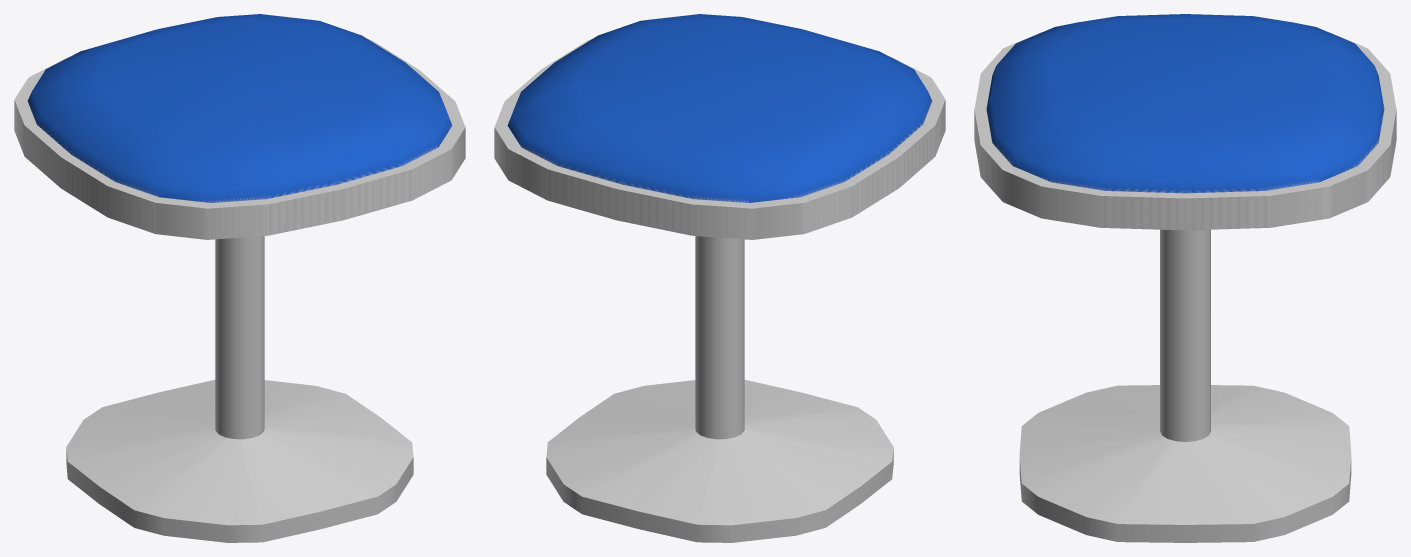
The model's file is Y1BoxChair.fbx.
3 views of the same model, side by side, from view 1: azimuth 30°, elevation 25°; view 2: azimuth 150°, elevation 25°; view 3: azimuth 270°, elevation 25° (orthographic). The views are drawn at different scales.
Parts seen in each view (by area): view 1: isu; view 2: isu; view 3: isu.
Part boxes in pixels (x1,y1,x2,y2): isu: (14,14,465,542); isu: (494,14,945,542); isu: (974,14,1396,542).
Size of the model in its own units: 0.9329 by 0.9775 by 0.9329.
Materials: 1 (1 with a texture image).
